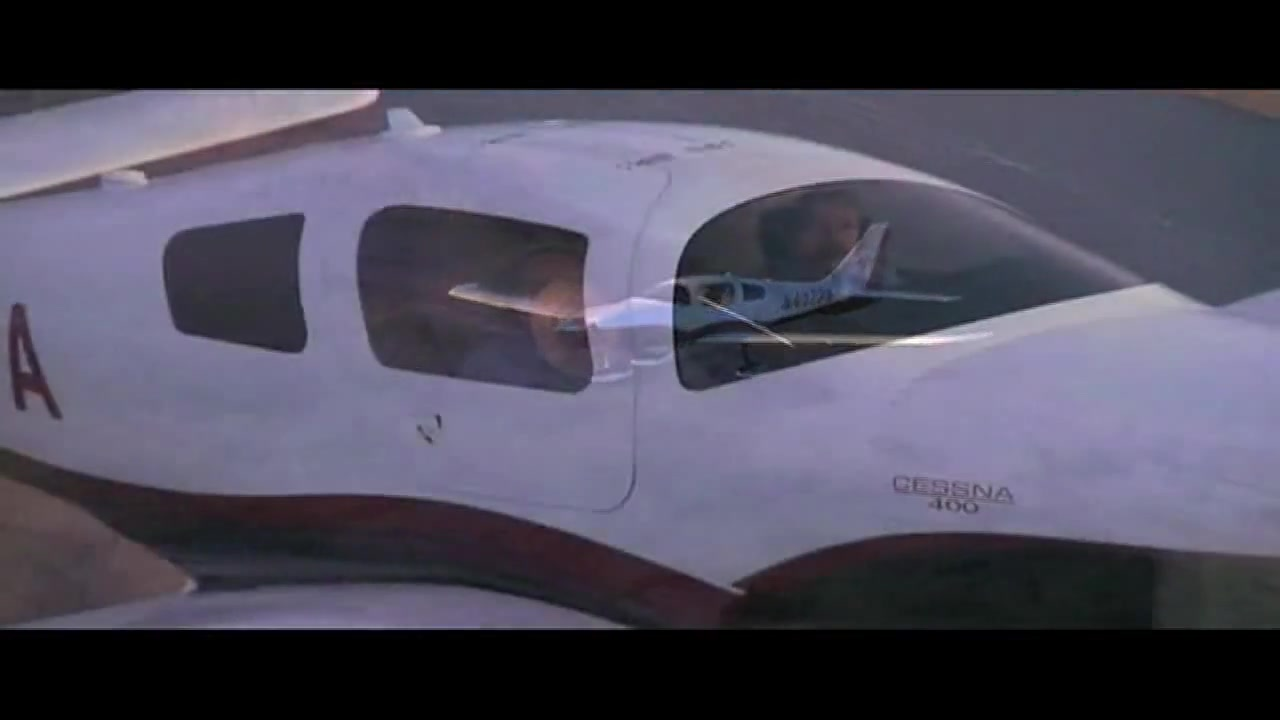aeroplane: (1, 89, 1280, 630)
